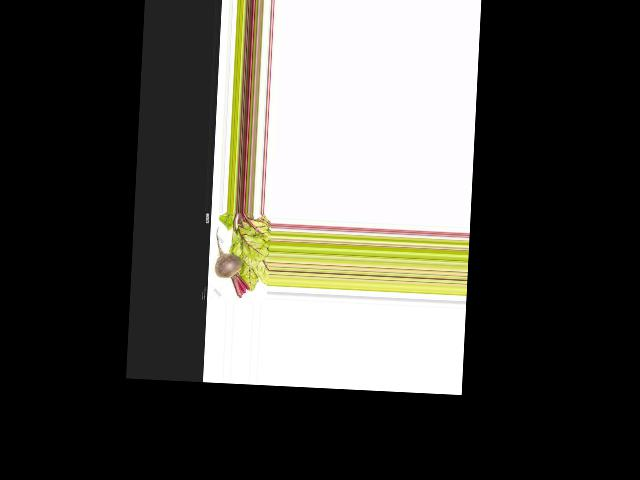beet: (212, 227, 252, 298)
